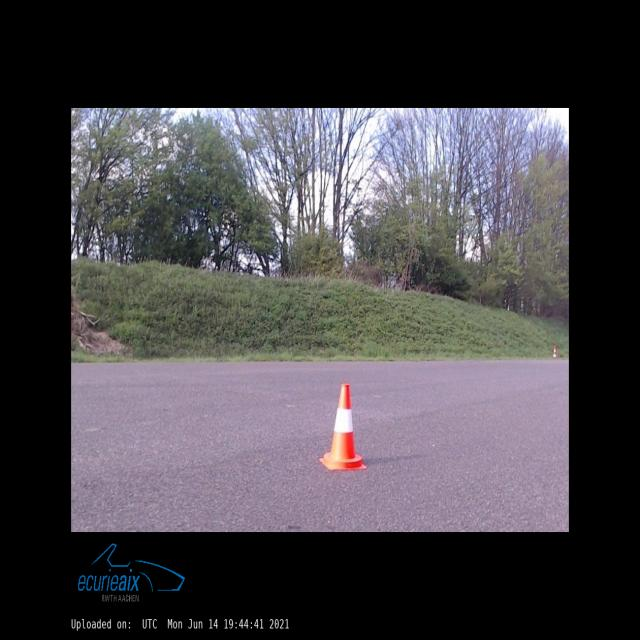large_orange_cone: (552, 344, 557, 360)
orange_cone: (319, 384, 366, 470)
